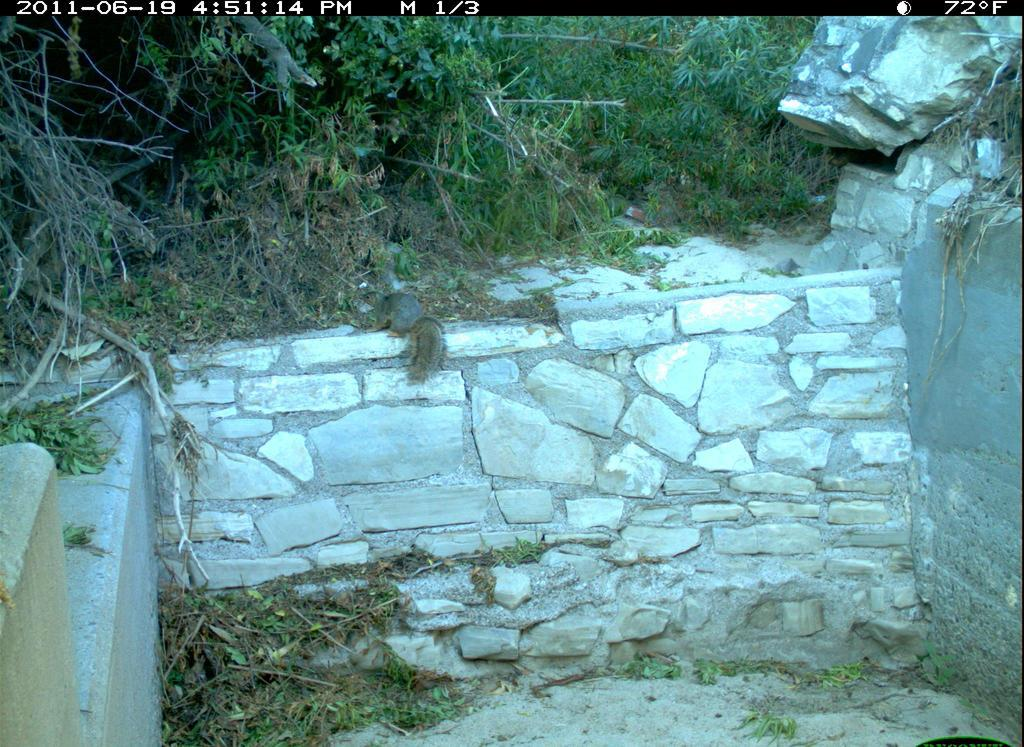squirrel: (350, 283, 452, 386)
